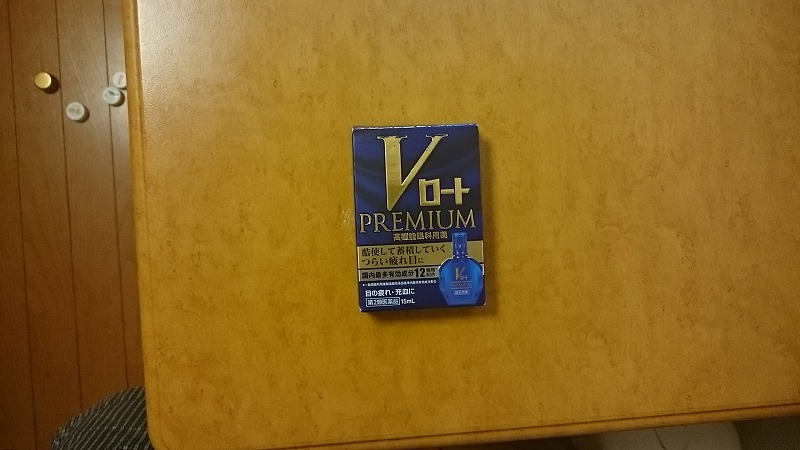D: (350, 121, 492, 311)
